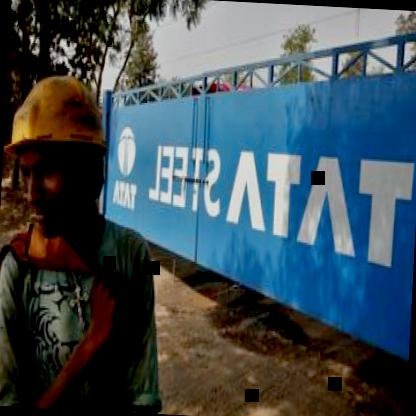helmet: (0, 52, 124, 241)
